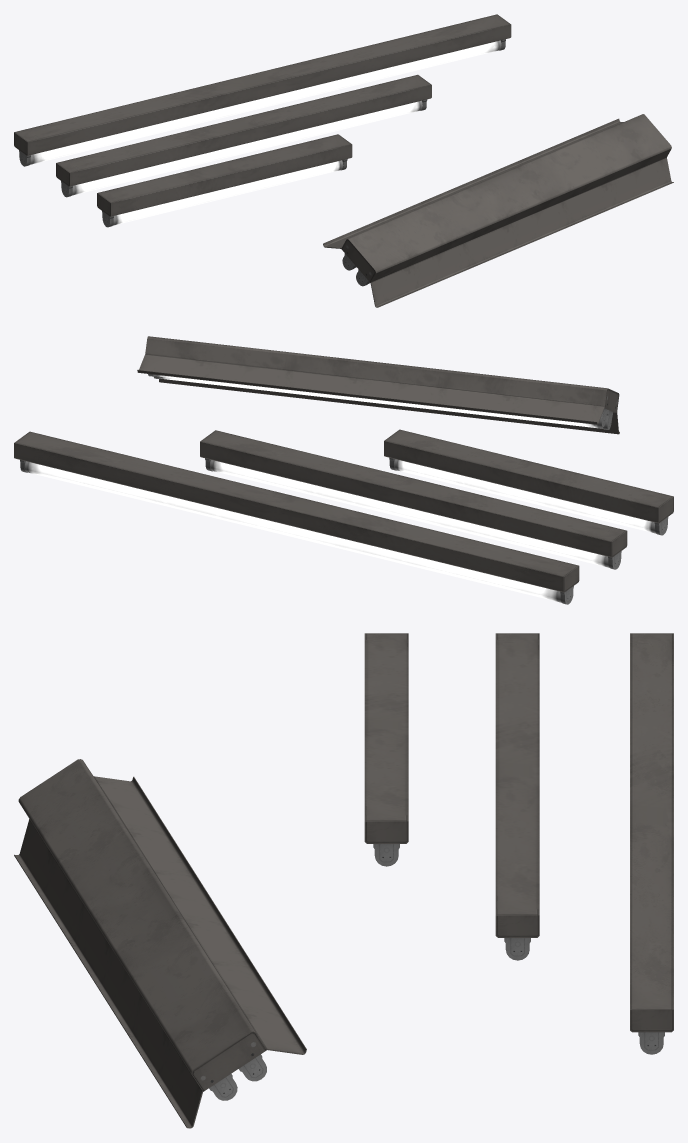
The model's file is lights.glb.
3 views of the same model, one above another, from view 1: azimuth 30°, elevation 25°; view 2: azimuth 150°, elevation 25°; view 3: azimuth 270°, elevation 25° (orthographic). The views are drawn at different scales.
Visible parts, largest first — view 1: pCube21, pCube19, pCube18, pCube22, pCube17, pCylinder34, pCylinder32, pCylinder30, pCube20; view 2: pCube19, pCube18, pCube20, pCube21, pCube17, pCylinder34, pCylinder32, pCylinder30, pCube22, pCylinder38, pCylinder41; view 3: pCube21, pCube19, pCube18, pCube20, pCube22, pCube17.
Boxes of the visible parts, x1,y1,x2,y2 form: pCube21: (341, 114, 671, 282); pCube19: (14, 14, 511, 155); pCube18: (56, 74, 431, 186); pCube22: (370, 157, 673, 307); pCube17: (97, 134, 352, 216); pCylinder34: (30, 40, 501, 164); pCylinder32: (72, 100, 422, 195); pCylinder30: (113, 160, 343, 225); pCube20: (323, 118, 623, 248); pCube19: (14, 431, 579, 592); pCube18: (200, 430, 627, 557); pCube20: (137, 354, 604, 424); pCube21: (145, 336, 619, 412); pCube17: (384, 429, 673, 523); pCylinder34: (24, 461, 561, 602); pCylinder32: (210, 460, 609, 567); pCylinder30: (394, 459, 655, 533); pCube22: (159, 378, 619, 434); pCylinder38: (158, 376, 603, 428); pCylinder41: (153, 374, 597, 426); pCube21: (18, 759, 266, 1091); pCube19: (630, 633, 673, 1032); pCube18: (495, 633, 539, 937); pCube20: (94, 776, 306, 1054); pCube22: (14, 819, 202, 1128); pCube17: (364, 633, 408, 843).
Size of the model in its own units: 210 by 24.9 by 148.
1 material, 1 textured.
